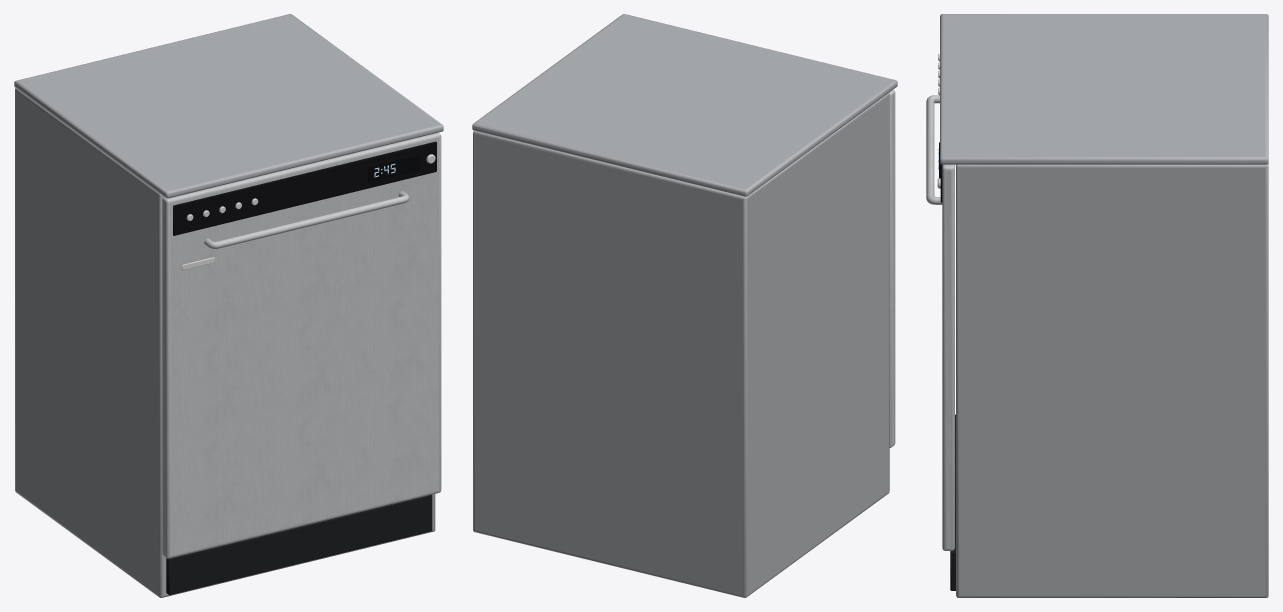
Rendered from lavavajillas_60_inox.glb.
3 renders of one model, left to right at view 1: azimuth 30°, elevation 25°; view 2: azimuth 150°, elevation 25°; view 3: azimuth 270°, elevation 25°, orthographic. The views are drawn at different scales.
Parts seen in each view (by area): view 1: lavavajillas_60_inox; view 2: lavavajillas_60_inox; view 3: lavavajillas_60_inox.
Part boxes in pixels (bbox=[...]): lavavajillas_60_inox: bbox=[14, 14, 443, 597]; lavavajillas_60_inox: bbox=[472, 14, 897, 597]; lavavajillas_60_inox: bbox=[926, 14, 1268, 597].
Size of the model in its own units: 0.6 by 0.85 by 0.598.
Materials: 7 (1 with a texture image).
